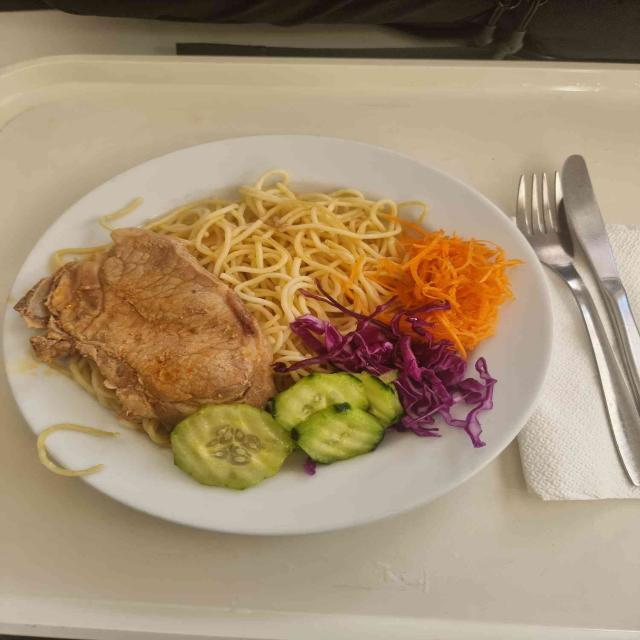carrot: (377, 221, 522, 358)
cucumber: (171, 373, 401, 490)
fork: (145, 170, 419, 365), (516, 173, 640, 484)
garbage: (518, 283, 640, 500), (607, 224, 640, 318)
knife: (560, 155, 640, 414)
plate: (2, 135, 557, 536)
pork: (15, 228, 275, 437)
spaghetti: (146, 171, 420, 364), (36, 423, 119, 476), (100, 198, 141, 231), (51, 246, 105, 269)
vegetables: (275, 287, 496, 447)
